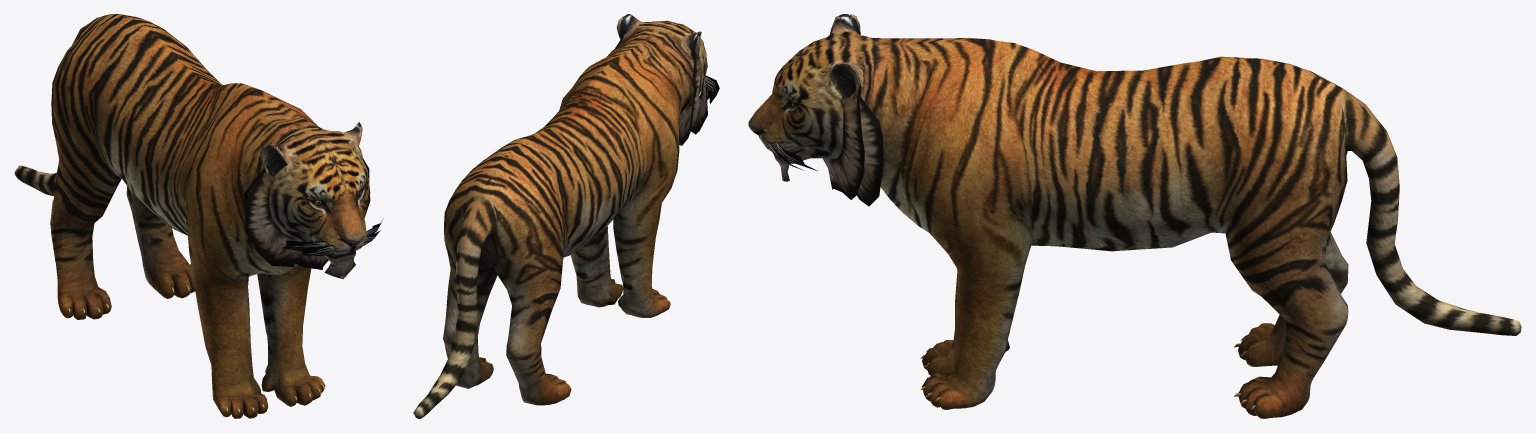
3 views of the same model, side by side, from view 1: azimuth 30°, elevation 25°; view 2: azimuth 150°, elevation 25°; view 3: azimuth 270°, elevation 25° (orthographic). The views are drawn at different scales.
Visible parts, largest first — view 1: SM_ET00006; view 2: SM_ET00006; view 3: SM_ET00006.
Part boxes in pixels (x1,y1,x2,y2): SM_ET00006: (14, 14, 382, 418); SM_ET00006: (413, 14, 719, 418); SM_ET00006: (748, 14, 1521, 418).
Size of the model in its own units: 0.5792 by 1.19 by 2.4.
Materials: 1 (1 with a texture image).
